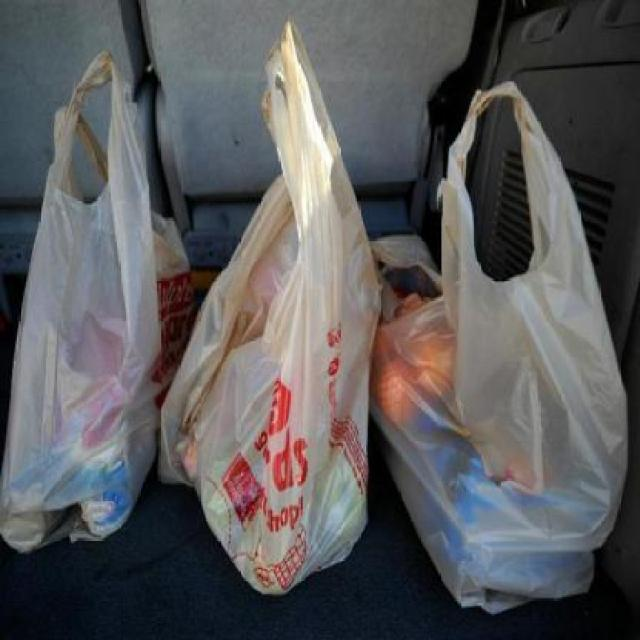plastic bag: (374, 68, 638, 638), (163, 28, 395, 596), (0, 38, 163, 554)
